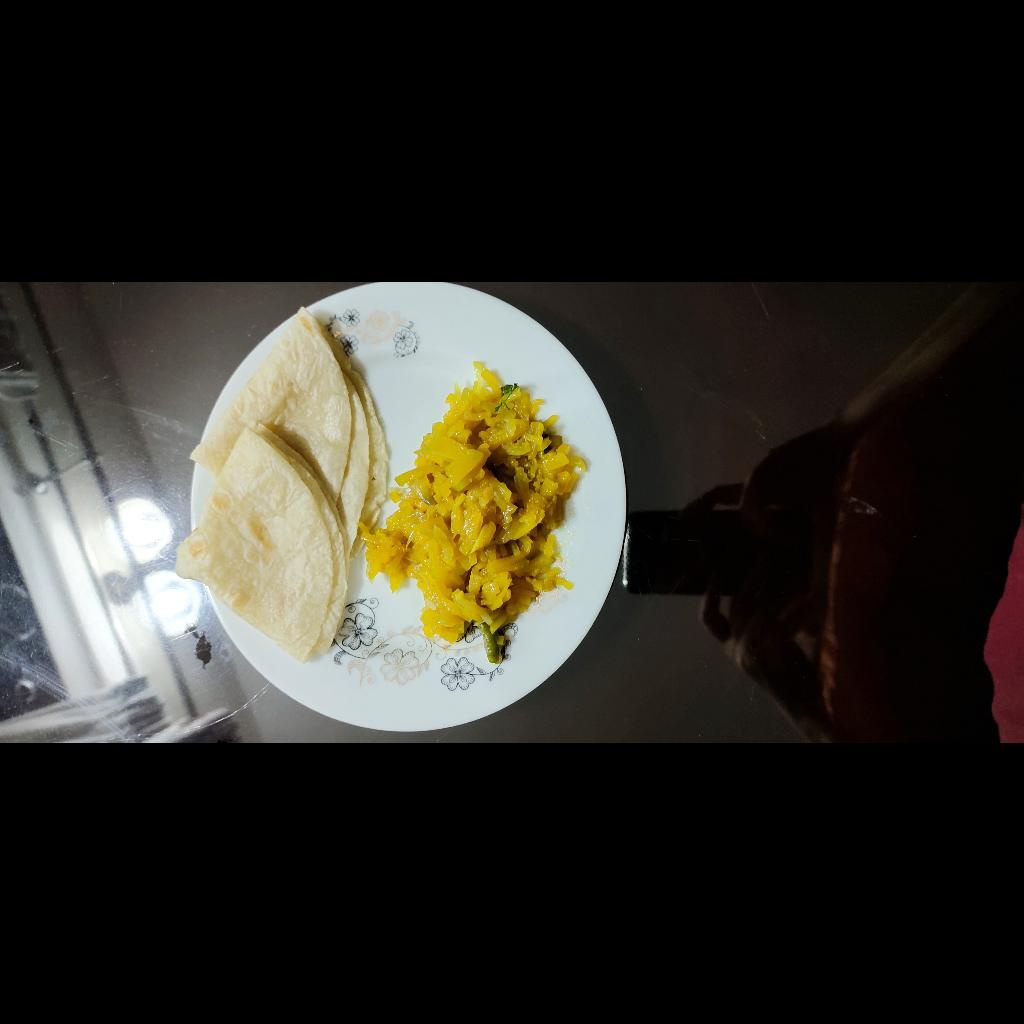ruti: (73, 455, 439, 665)
vegetable: (99, 641, 381, 871)
